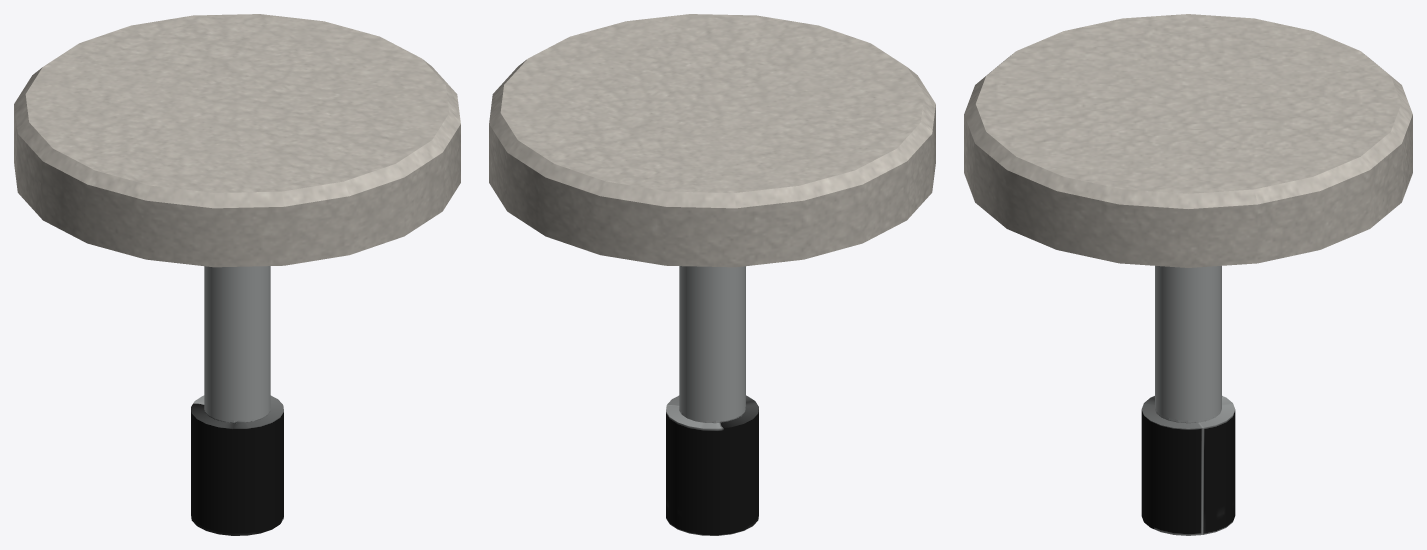
File: ass_17_chair.fbx
The picture shows the model from 3 angles, left to right: view 1: azimuth 30°, elevation 25°; view 2: azimuth 150°, elevation 25°; view 3: azimuth 270°, elevation 25°; orthographic projection.
Parts seen in each view (by area): view 1: chair_pole7; view 2: chair_pole7; view 3: chair_pole7.
Boxes of the visible parts, x1=… form: chair_pole7: x1=14, y1=14, x2=460, y2=535; chair_pole7: x1=489, y1=14, x2=935, y2=535; chair_pole7: x1=964, y1=14, x2=1412, y2=535.
Size of the model in its own units: 51.25 by 51.94 by 51.25.
2 materials, 2 textured.
